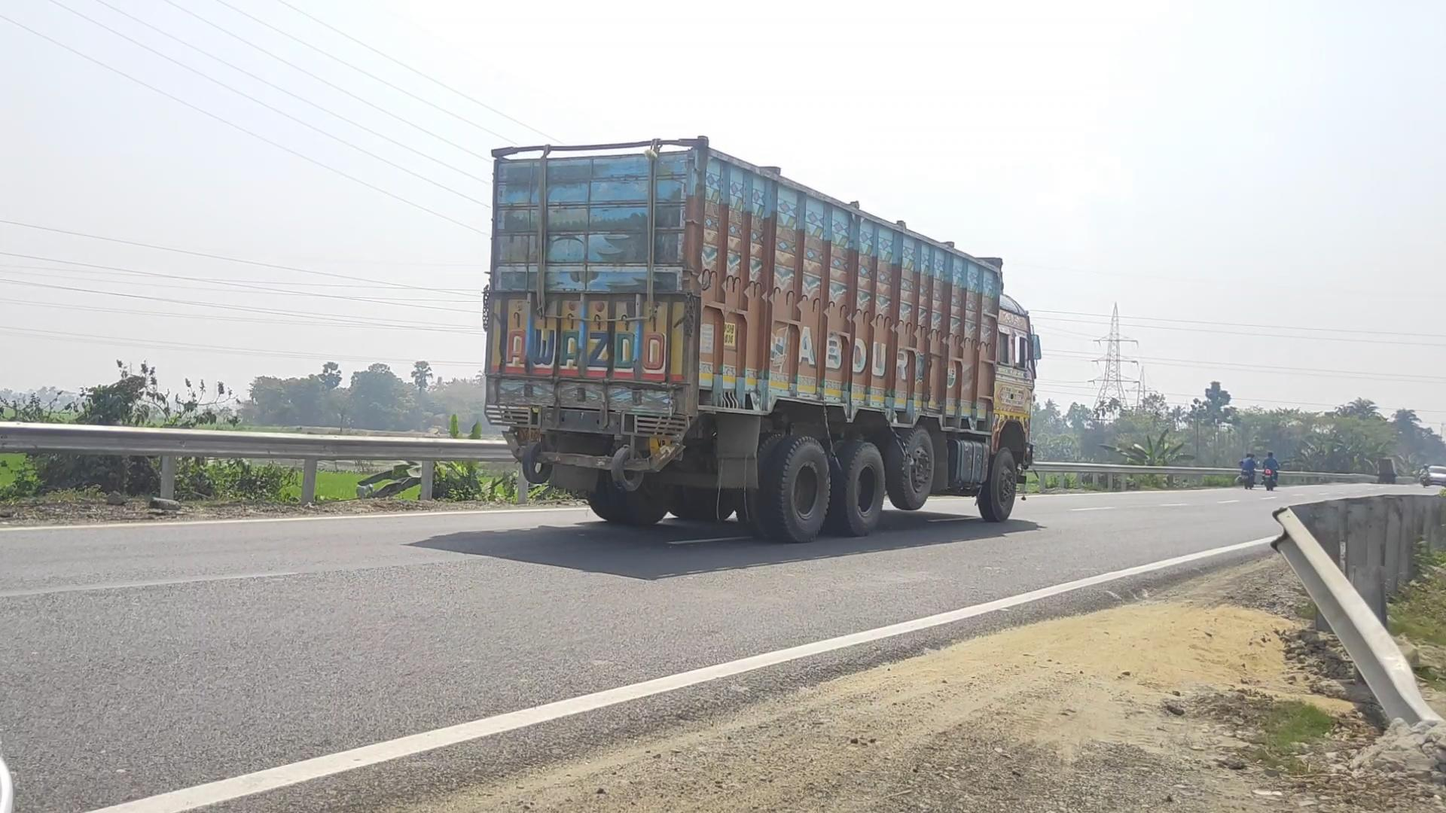bike: (1236, 452, 1259, 490), (1261, 451, 1280, 491), (1419, 464, 1432, 488)
car: (1428, 466, 1446, 487)
truck: (482, 132, 1042, 545)
